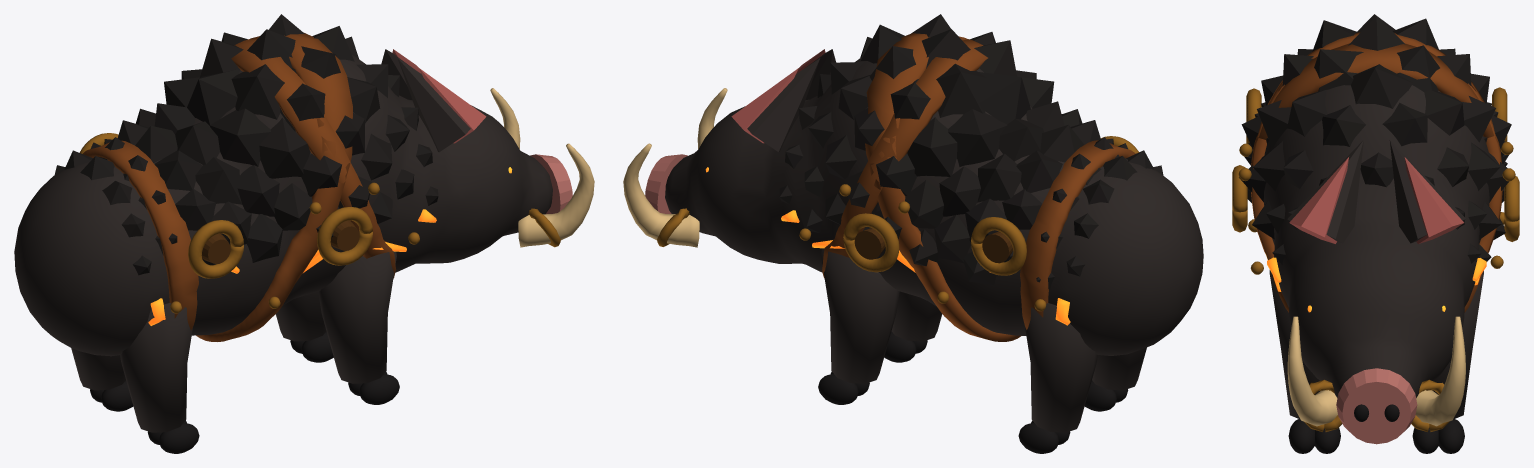
File: boar.glb
3 renders of one model, left to right at view 1: azimuth 30°, elevation 25°; view 2: azimuth 150°, elevation 25°; view 3: azimuth 270°, elevation 25°, orthographic. The views are drawn at different scales.
Parts seen in each view (by area): view 1: Body, Leg_FL_Leg, Strap_Girth, Leg_HL_Leg, Strap_Rump, Strap_Shoulder, Tusk_N, Ear_N, Bristle_44, Bristle_36, Bristle_37, Bristle_45 (+35 smaller); view 2: Body, Leg_FR_Leg, Leg_HR_Leg, Strap_Girth, Strap_Rump, Strap_Shoulder, Tusk_F, Ear_F, Bristle_46, Bristle_39, Bristle_45, Bristle_38 (+39 smaller); view 3: Body, Snout, Strap_Girth, Strap_Shoulder, Tusk_N, Tusk_F, Ear_N, Ear_F, EarIn_F, EarIn_N, Bristle_17, Bristle_10 (+39 smaller).
Part boxes in pixels (<box>): Body: <box>14,55,552,356</box>; Leg_FL_Leg: <box>318,251,396,383</box>; Strap_Girth: <box>196,32,352,341</box>; Leg_HL_Leg: <box>120,303,192,432</box>; Strap_Rump: <box>83,140,198,330</box>; Strap_Shoulder: <box>231,39,396,278</box>; Tusk_N: <box>518,143,594,247</box>; Ear_N: <box>397,58,470,152</box>; Bristle_44: <box>210,108,270,166</box>; Bristle_36: <box>259,117,310,178</box>; Bristle_37: <box>231,64,284,119</box>; Bristle_45: <box>187,69,240,125</box>; Body: <box>665,56,1203,355</box>; Leg_FR_Leg: <box>821,248,899,383</box>; Leg_HR_Leg: <box>1025,303,1097,432</box>; Strap_Girth: <box>865,33,1021,341</box>; Strap_Rump: <box>1020,140,1135,329</box>; Strap_Shoulder: <box>822,39,987,278</box>; Tusk_F: <box>623,143,699,247</box>; Ear_F: <box>747,58,820,152</box>; Bristle_46: <box>948,109,1007,166</box>; Bristle_39: <box>907,117,957,176</box>; Bristle_45: <box>977,71,1030,124</box>; Bristle_38: <box>936,63,986,117</box>; Body: <box>1263,85,1489,397</box>; Snout: <box>1336,368,1417,444</box>; Strap_Girth: <box>1251,43,1500,160</box>; Strap_Shoulder: <box>1251,32,1502,312</box>; Tusk_N: <box>1287,316,1337,426</box>; Tusk_F: <box>1415,316,1465,426</box>; Ear_N: <box>1287,140,1363,243</box>; Ear_F: <box>1389,140,1465,243</box>; EarIn_F: <box>1404,157,1463,243</box>; EarIn_N: <box>1289,157,1348,243</box>; Bristle_17: <box>1351,64,1412,108</box>; Bristle_10: <box>1382,102,1427,146</box>.
Size of the model in its own units: 1.39 by 0.9135 by 0.603.
